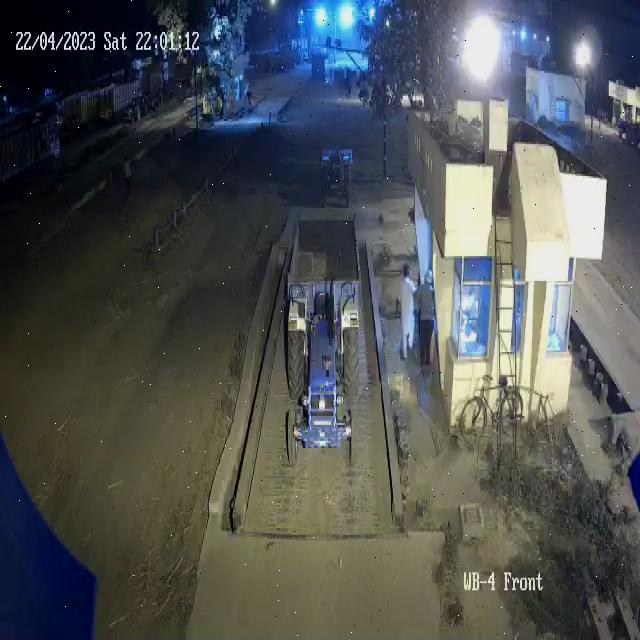Tratores - v5 YOLO V8L 2024-11-13: (280, 270, 364, 472), (316, 141, 356, 213)
